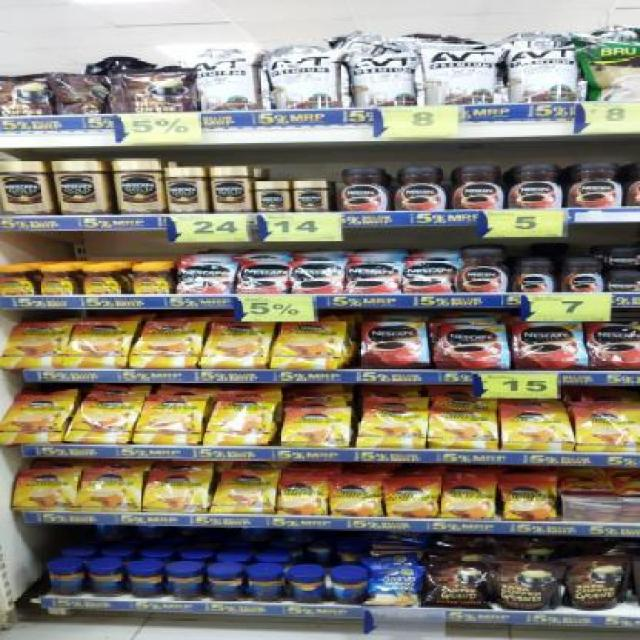Coffee: (434, 324, 508, 371), (62, 319, 130, 369), (132, 318, 200, 368), (515, 322, 587, 369), (201, 320, 270, 369), (69, 394, 136, 444), (271, 320, 338, 369), (3, 392, 65, 443), (137, 396, 200, 446), (362, 322, 429, 369), (202, 399, 267, 446), (2, 321, 68, 367), (114, 160, 166, 214), (282, 408, 350, 449), (502, 407, 568, 448), (0, 161, 51, 214), (428, 412, 497, 451), (578, 407, 640, 450), (212, 474, 277, 515), (143, 472, 208, 512), (360, 412, 428, 450), (77, 471, 140, 512), (11, 472, 75, 512), (58, 161, 107, 213), (591, 324, 640, 370), (570, 164, 619, 208), (511, 165, 560, 208), (460, 249, 506, 293), (398, 167, 445, 210), (340, 169, 386, 211), (456, 166, 500, 209), (386, 479, 437, 516), (443, 479, 494, 516), (210, 166, 250, 212), (280, 475, 328, 513), (332, 478, 380, 516), (504, 484, 556, 518), (179, 263, 232, 294), (405, 260, 453, 294), (169, 167, 203, 213), (295, 261, 343, 293), (348, 264, 398, 294), (240, 262, 286, 292), (518, 260, 554, 292), (565, 262, 603, 292), (130, 268, 168, 294), (39, 267, 73, 295), (82, 268, 118, 294), (296, 181, 326, 211), (256, 182, 287, 210), (1, 267, 32, 295), (606, 274, 640, 292), (608, 249, 640, 266)
